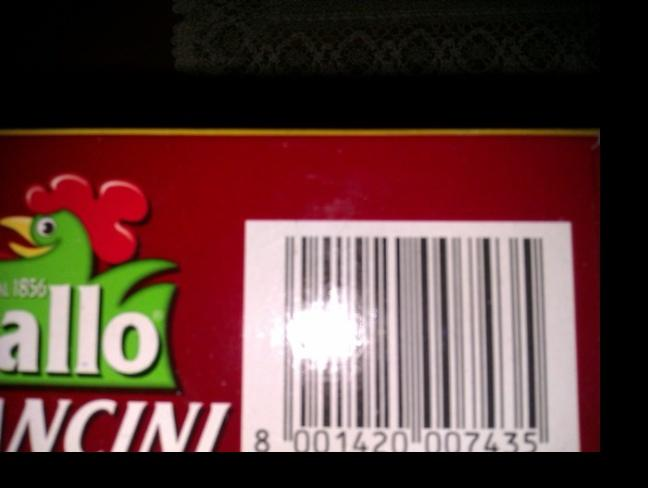Barcode: (244, 237, 553, 452)
